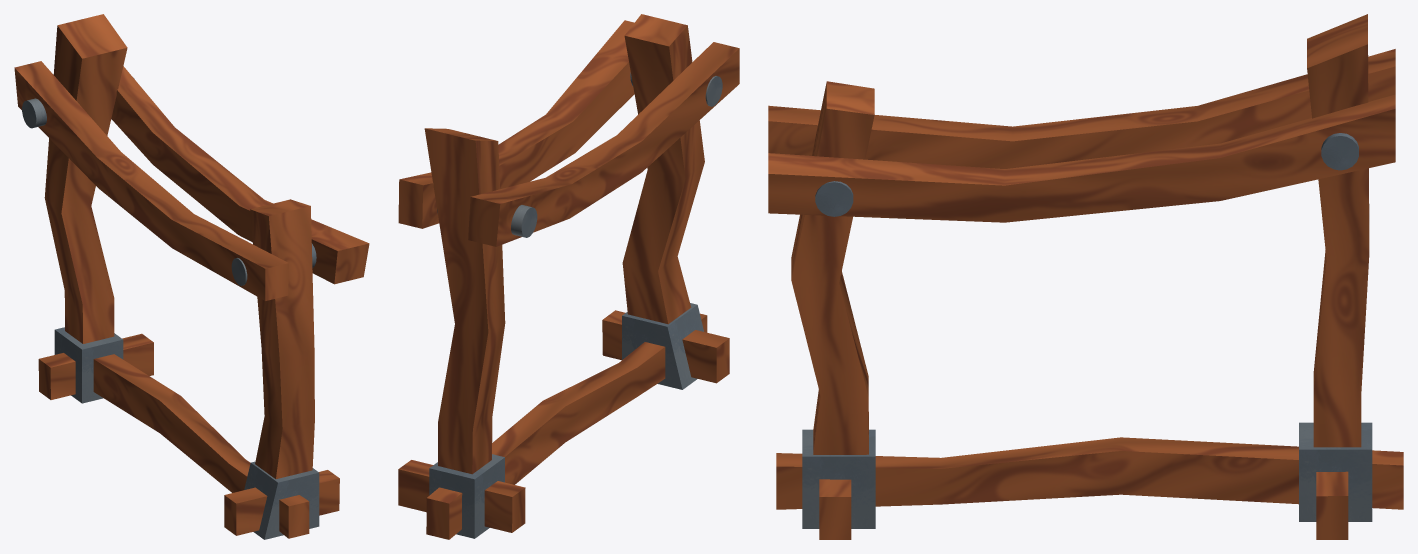
Rendered from SM_Weapon_Holder.fbx.
The picture shows the model from 3 angles, left to right: view 1: azimuth 30°, elevation 25°; view 2: azimuth 150°, elevation 25°; view 3: azimuth 270°, elevation 25°; orthographic projection. The views are drawn at different scales.
Parts seen in each view (by area): view 1: SM_Weapon_Holder; view 2: SM_Weapon_Holder; view 3: SM_Weapon_Holder.
Part boxes in pixels (<box>): SM_Weapon_Holder: <box>14,14,369,539</box>; SM_Weapon_Holder: <box>398,14,739,539</box>; SM_Weapon_Holder: <box>768,14,1403,539</box>.
Bounding box in the file's own units: 61.63 × 167 × 199.
